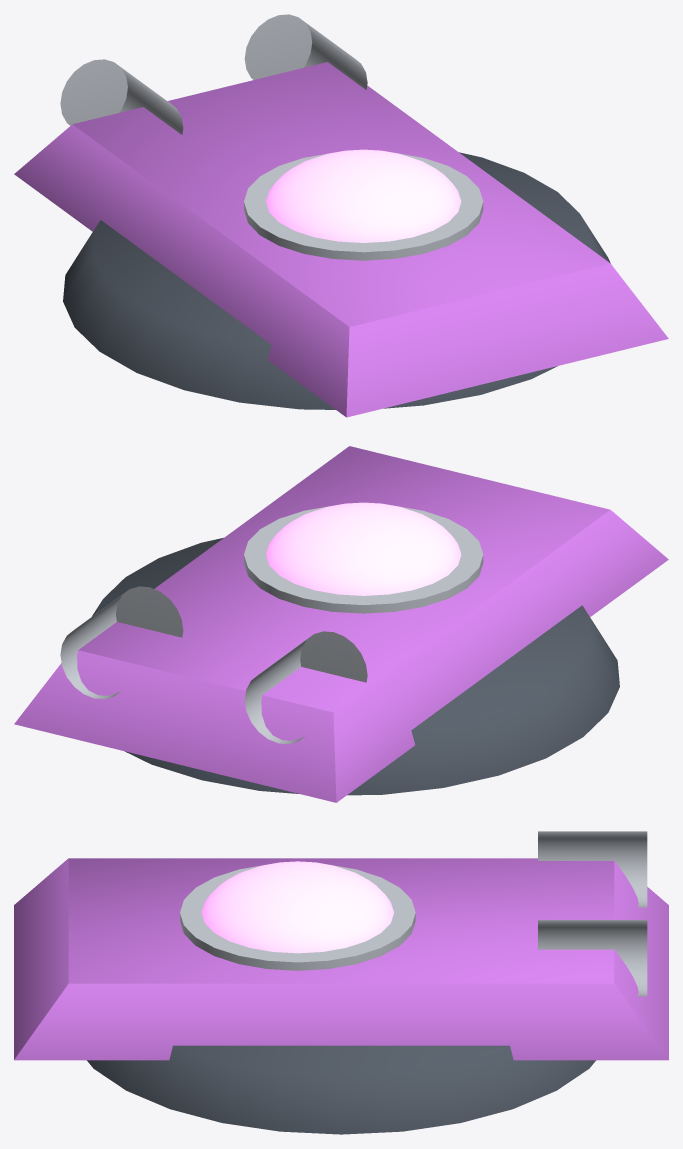
The model's file is yuri_hover_transport.glb.
3 renders of one model, top to bottom at view 1: azimuth 30°, elevation 25°; view 2: azimuth 150°, elevation 25°; view 3: azimuth 270°, elevation 25°, orthographic.
Visible parts, largest first — view 1: Hull; view 2: Hull; view 3: Hull.
Boxes of the visible parts, bbox=[...] form: Hull: bbox=[14, 14, 668, 417]; Hull: bbox=[14, 446, 668, 802]; Hull: bbox=[14, 831, 668, 1134].
Size of what is drawn, in the model's own units: 2.52 by 0.708 by 3.
